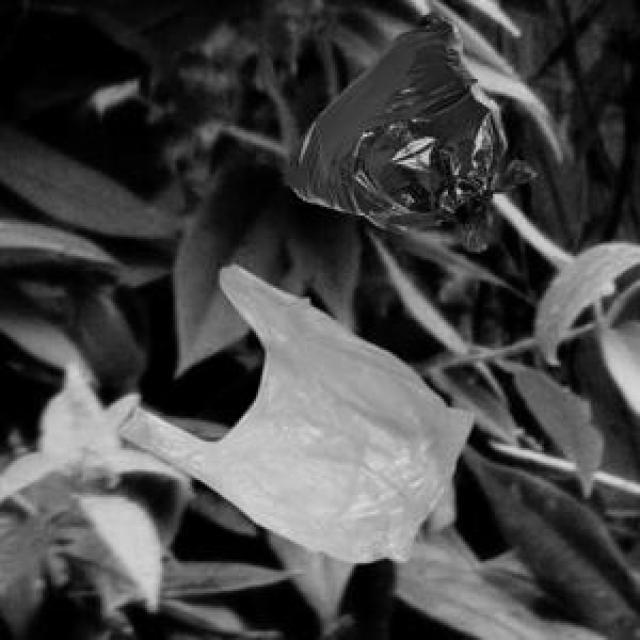miscellaneous trash: (280, 9, 531, 248)
